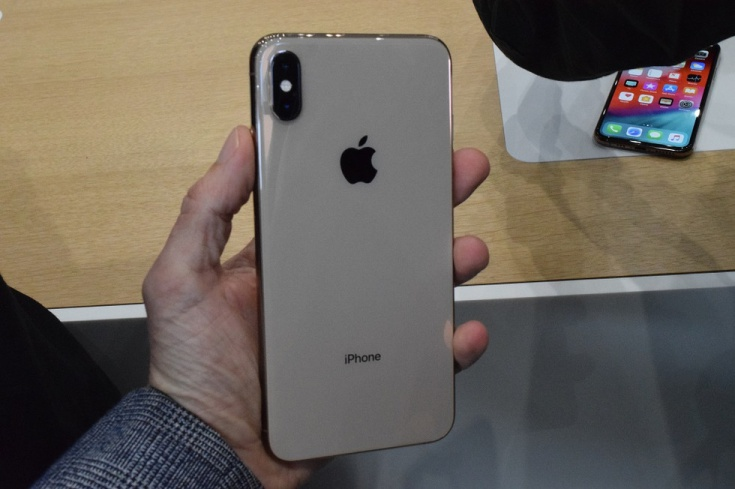apple: (329, 120, 402, 194)
